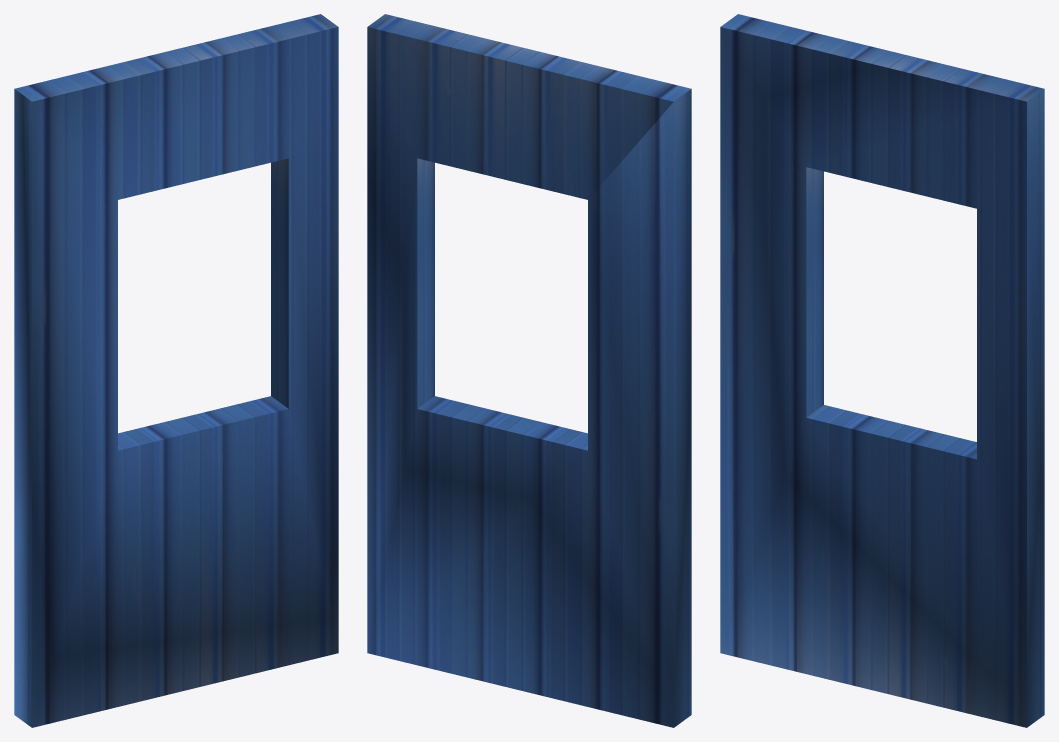
Rendered from camlı dış duvar yeni.fbx.
3 renders of one model, left to right at view 1: azimuth 30°, elevation 25°; view 2: azimuth 150°, elevation 25°; view 3: azimuth 330°, elevation 25°, orthographic.
Parts seen in each view (by area): view 1: Plane.006; view 2: Plane.006; view 3: Plane.006.
Part boxes in pixels (x1,y1,x2,y2): Plane.006: (14,14,338,727); Plane.006: (367,14,691,727); Plane.006: (720,14,1044,727).
Bounding box in the file's own units: 100 × 195 × 10.
Materials: 1 (1 with a texture image).
